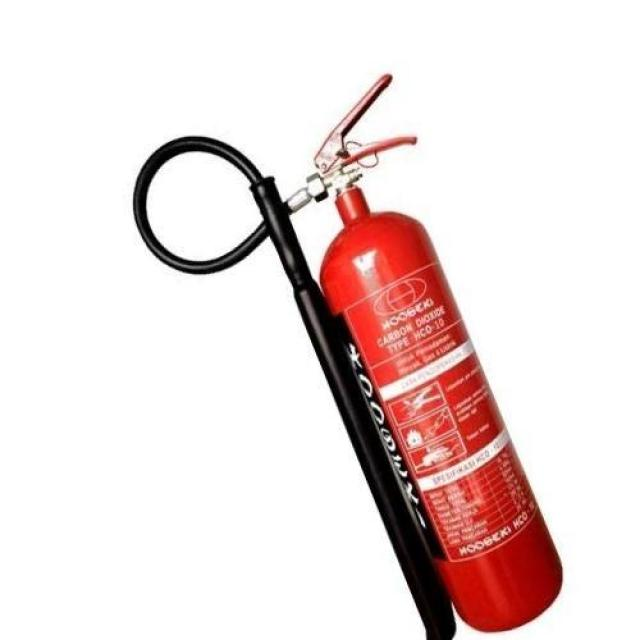fire_extinguisher: (128, 65, 566, 639)
